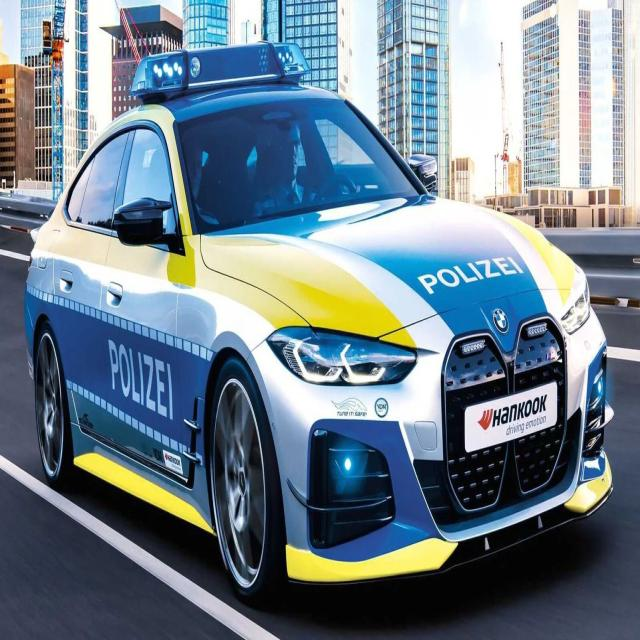Police: (21, 36, 623, 616)
